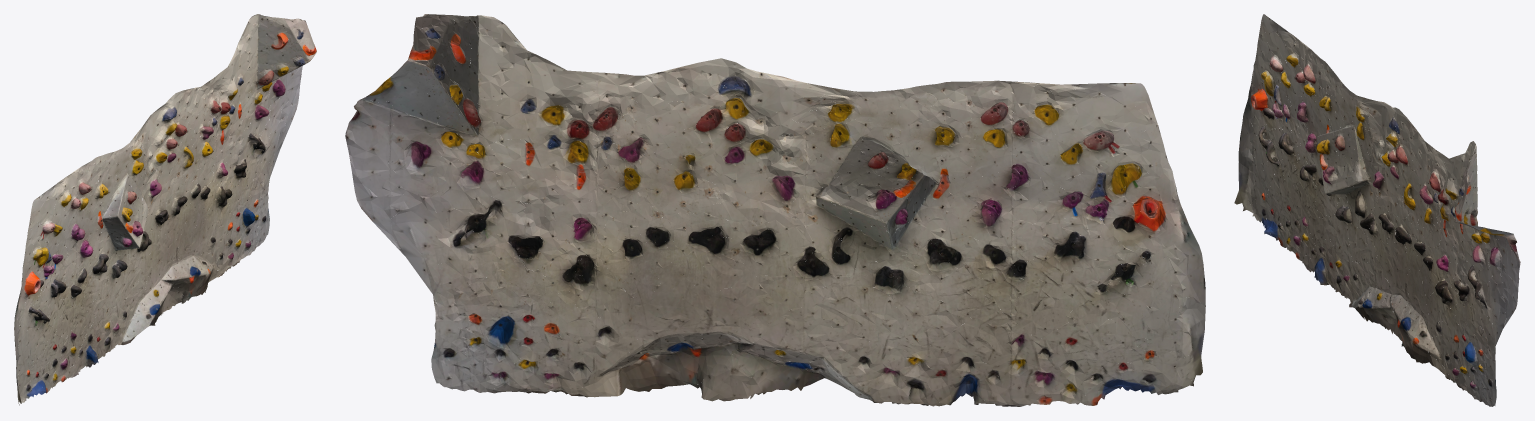
Rendered from GasverketWideWall.fbx.
3 views of the same model, side by side, from view 1: azimuth 30°, elevation 25°; view 2: azimuth 150°, elevation 25°; view 3: azimuth 270°, elevation 25° (orthographic). The views are drawn at different scales.
Parts seen in each view (by area): view 1: Mesh_0; view 2: Mesh_0; view 3: Mesh_0.
Part boxes in pixels (x1=…): Mesh_0: x1=14, y1=14, x2=316, y2=405; Mesh_0: x1=345, y1=14, x2=1205, y2=406; Mesh_0: x1=1234, y1=14, x2=1520, y2=406.
Size of the model in its own units: 431 by 239 by 236.
Materials: 1 (1 with a texture image).
